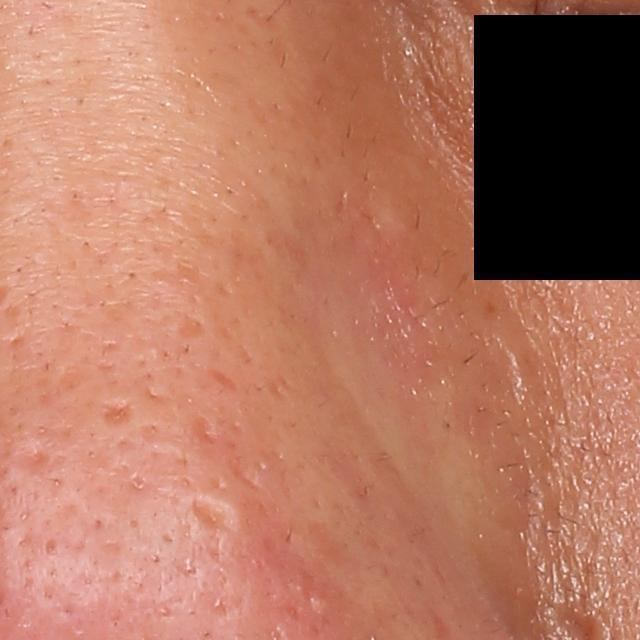atrophic_scar: (191, 502, 237, 536), (204, 364, 244, 397), (18, 446, 56, 472), (100, 403, 134, 431), (178, 313, 208, 342), (196, 415, 222, 446)
comedo: (42, 534, 60, 558)
hypertrophic_scar: (354, 168, 429, 253)
